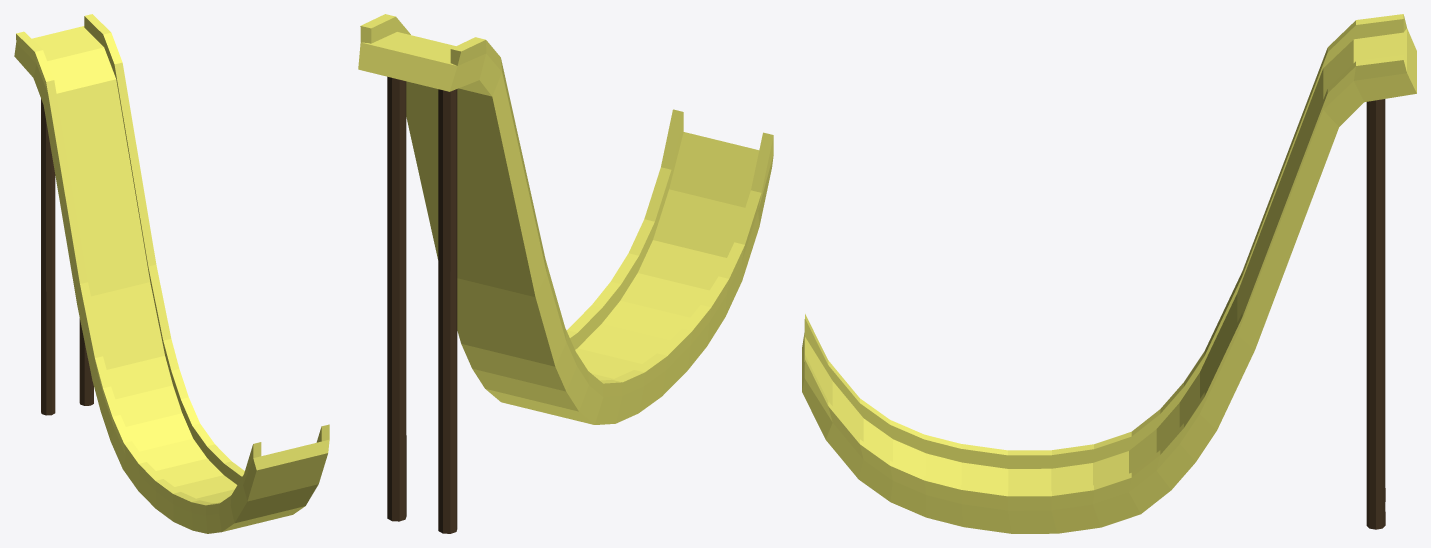
The model's file is slider.fbx.
3 renders of one model, left to right at view 1: azimuth 30°, elevation 25°; view 2: azimuth 150°, elevation 25°; view 3: azimuth 270°, elevation 25°, orthographic. The views are drawn at different scales.
Visible parts, largest first — view 1: Plane; view 2: Plane; view 3: Plane.
Part boxes in pixels (<box>): Plane: <box>14,14,329,533</box>; Plane: <box>358,14,773,533</box>; Plane: <box>802,14,1416,533</box>.
Bounding box in the file's own units: 472 × 2224 × 2604.
